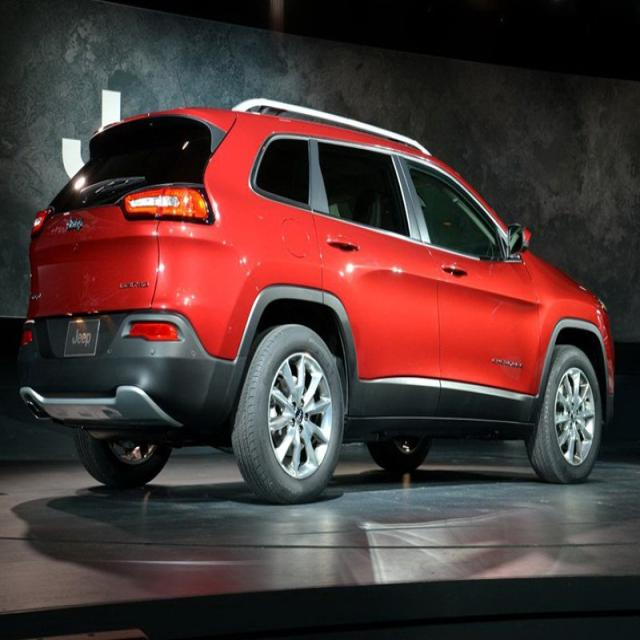back_glass: (44, 130, 218, 209)
back_left_side_light: (31, 210, 54, 237)
back_right_side_light: (124, 184, 218, 223)
door: (304, 155, 406, 422)
front_right_side_door: (400, 152, 534, 426)
front_right_side_mirror: (506, 219, 532, 262)
rear_bumper: (22, 312, 216, 418)
wheel: (231, 321, 350, 504), (526, 337, 608, 481), (73, 428, 179, 495)
